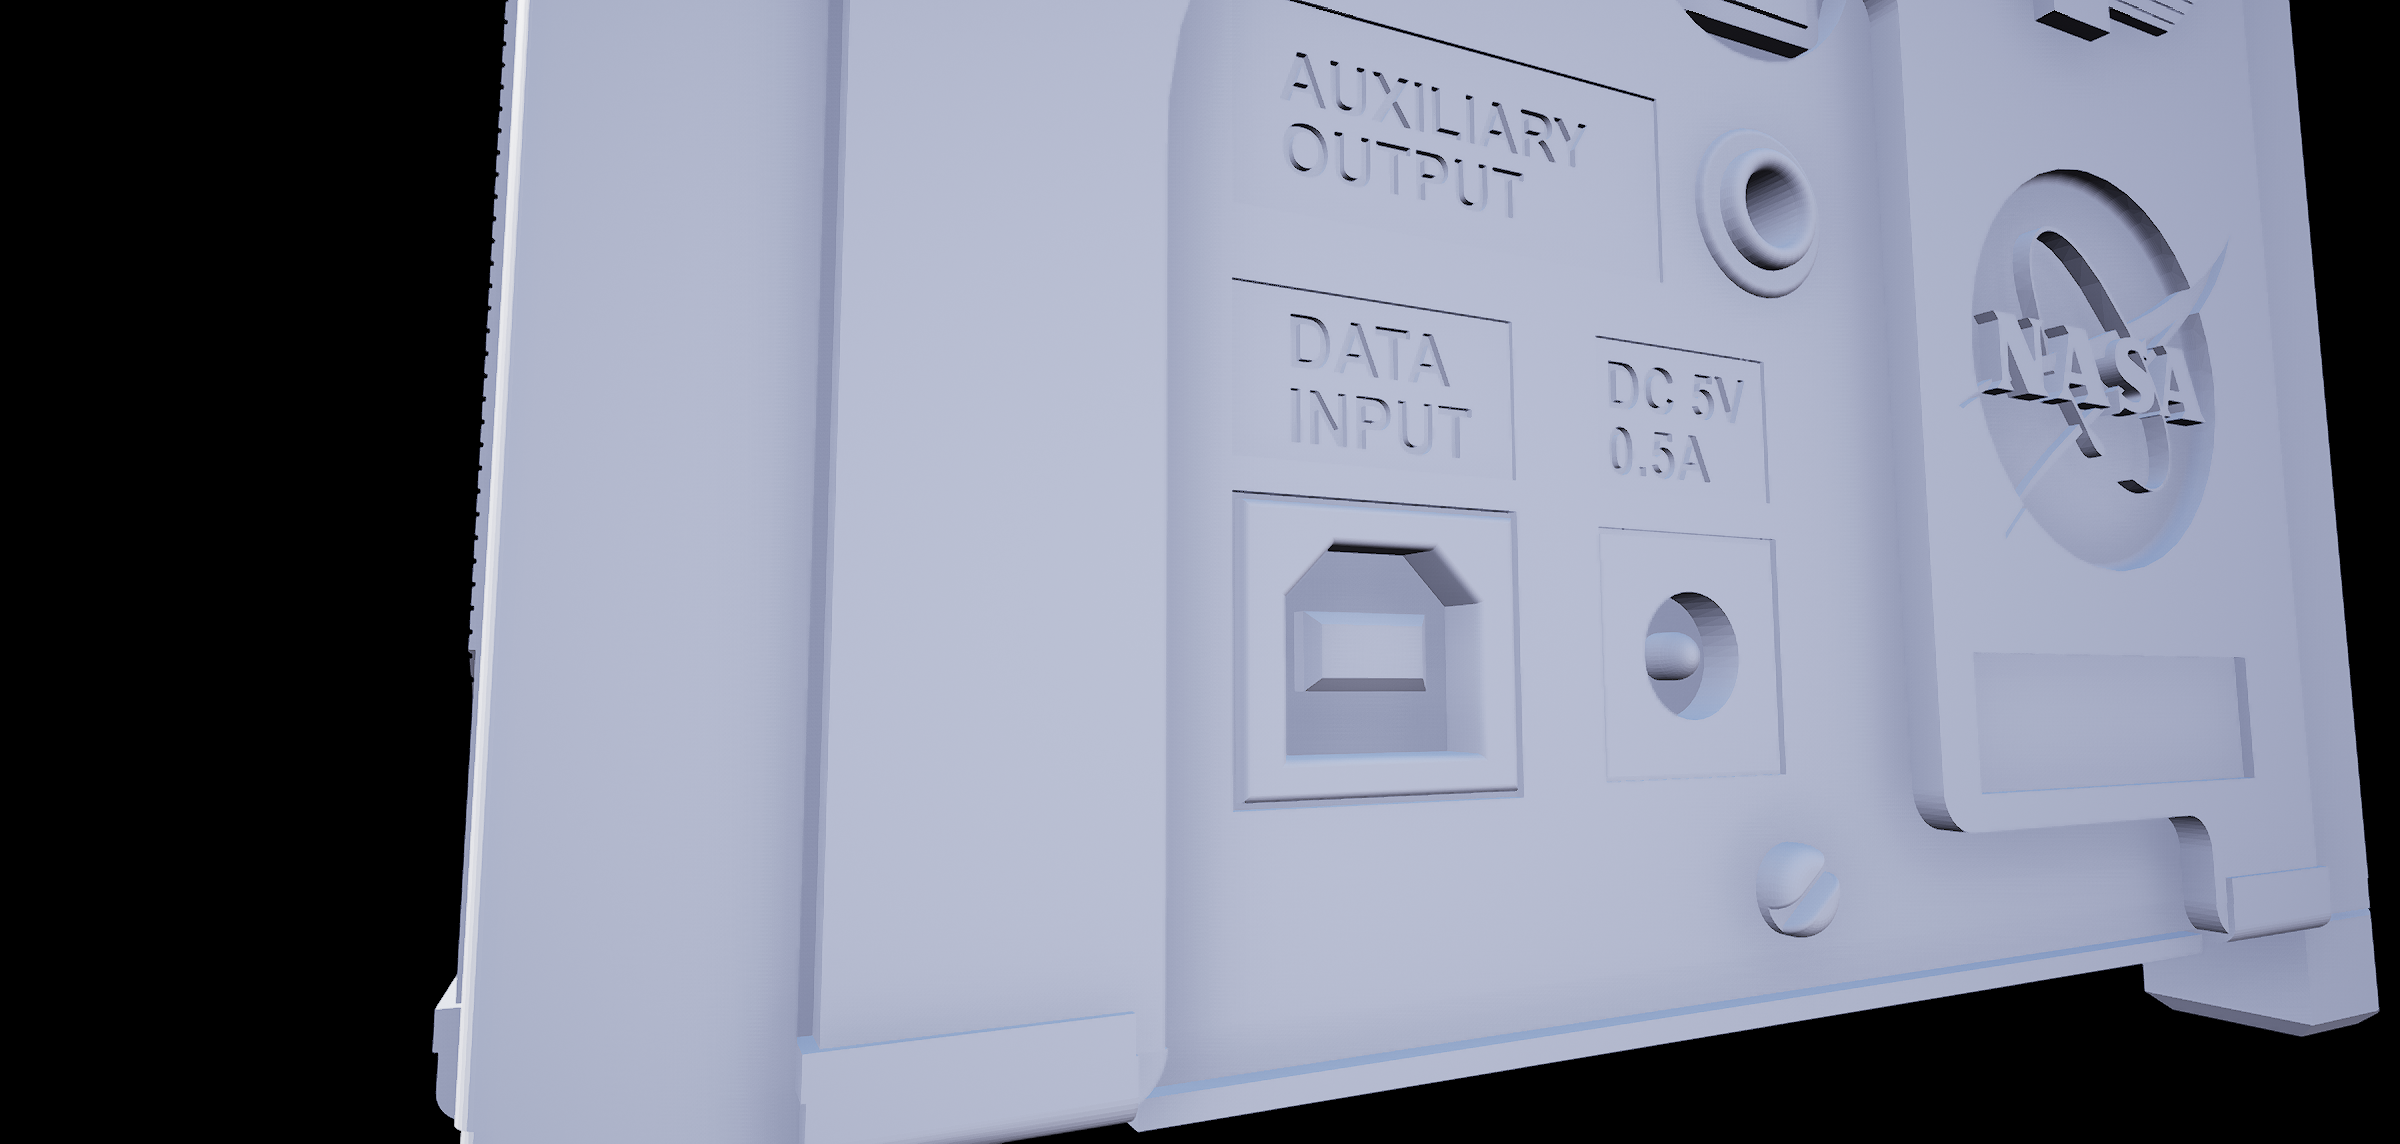aux: (1691, 104, 1832, 309)
dc: (1629, 580, 1749, 740)
usb: (1270, 525, 1502, 772)
